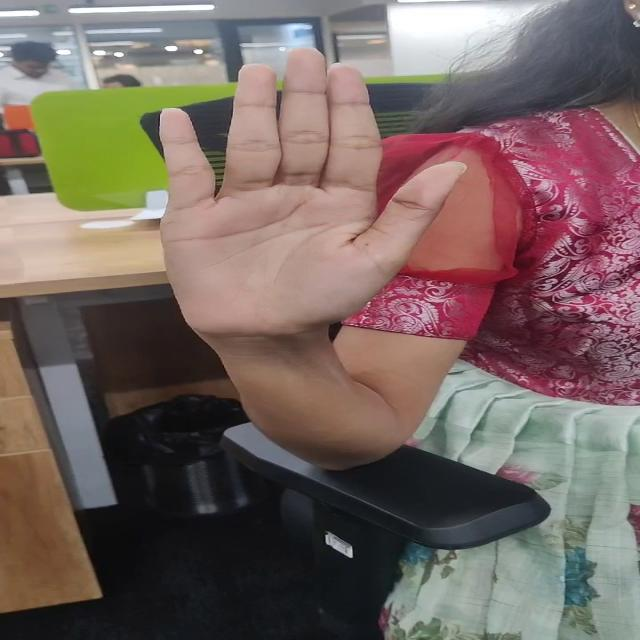no-gloves: (146, 35, 470, 354)
